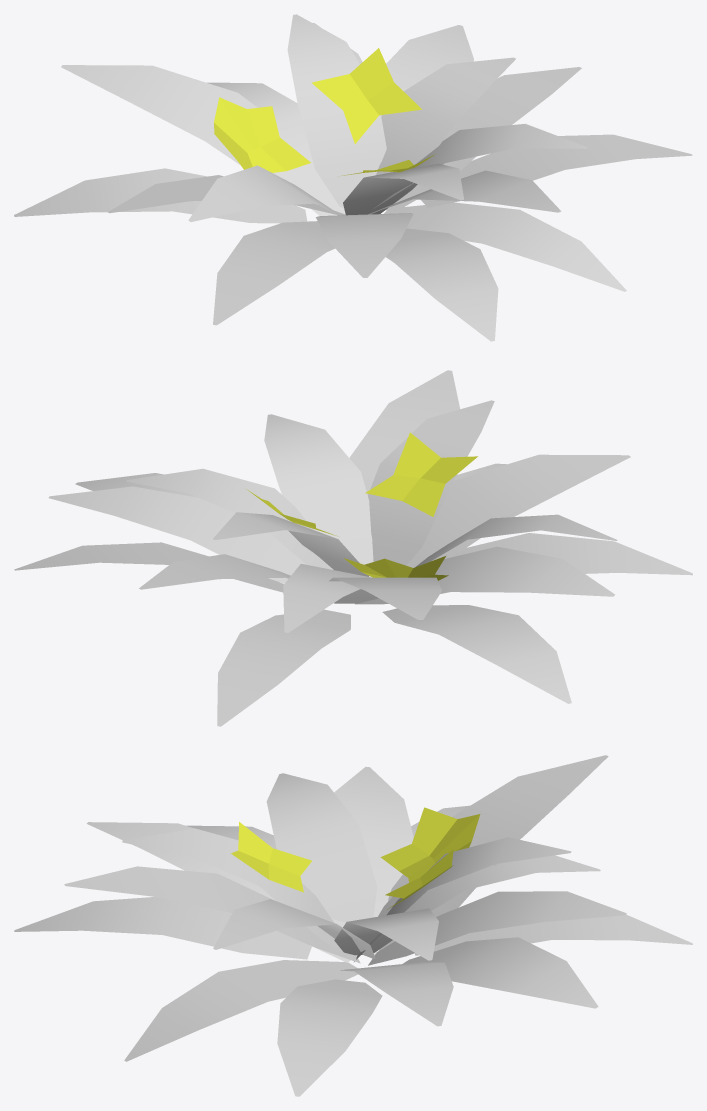
The model's file is Plant2.fbx.
The picture shows the model from 3 angles, top to bottom: view 1: azimuth 30°, elevation 25°; view 2: azimuth 150°, elevation 25°; view 3: azimuth 270°, elevation 25°; orthographic projection. The views are drawn at different scales.
Parts seen in each view (by area): view 1: Plane.095, Plane.091, Plane.085, Plane.094, Plane.088, Plane.083, Plane.082, Plane.079, Plane.090, Plane.100, Plane.101, Plane.097 (+7 smaller); view 2: Plane.093, Plane.086, Plane.090, Plane.081, Plane.082, Plane.098, Plane.087, Plane.094, Plane.092, Plane.083, Plane.099, Plane.080 (+7 smaller); view 3: Plane.097, Plane.091, Plane.079, Plane.085, Plane.080, Plane.088, Plane.089, Plane.092, Plane.087, Plane.098, Plane.081, Plane.090 (+9 smaller).
Part boxes in pixels (bbox=[...]): Plane.095: bbox=[287, 14, 386, 208]; Plane.091: bbox=[384, 202, 626, 291]; Plane.085: bbox=[386, 228, 498, 341]; Plane.094: bbox=[376, 57, 515, 175]; Plane.088: bbox=[61, 65, 275, 174]; Plane.083: bbox=[213, 221, 334, 325]; Plane.082: bbox=[14, 168, 307, 223]; Plane.079: bbox=[421, 134, 692, 207]; Plane.090: bbox=[386, 67, 581, 211]; Plane.100: bbox=[311, 48, 422, 143]; Plane.101: bbox=[214, 97, 310, 172]; Plane.097: bbox=[188, 165, 340, 221]; Plane.093: bbox=[264, 414, 373, 577]; Plane.086: bbox=[406, 454, 630, 567]; Plane.090: bbox=[48, 486, 306, 583]; Plane.081: bbox=[217, 609, 350, 726]; Plane.082: bbox=[382, 605, 571, 703]; Plane.098: bbox=[368, 400, 494, 565]; Plane.087: bbox=[355, 546, 614, 604]; Plane.094: bbox=[126, 468, 333, 569]; Plane.092: bbox=[349, 370, 459, 495]; Plane.083: bbox=[453, 533, 692, 575]; Plane.099: bbox=[365, 432, 477, 516]; Plane.080: bbox=[14, 542, 283, 592]; Plane.097: bbox=[266, 773, 377, 922]; Plane.091: bbox=[124, 960, 358, 1061]; Plane.079: bbox=[277, 979, 382, 1096]; Plane.085: bbox=[14, 897, 311, 959]; Plane.080: bbox=[403, 937, 598, 1008]; Plane.088: bbox=[379, 755, 608, 950]; Plane.089: bbox=[368, 891, 626, 965]; Plane.092: bbox=[64, 866, 360, 963]; Plane.087: bbox=[332, 766, 413, 955]; Plane.098: bbox=[122, 828, 338, 946]; Plane.081: bbox=[415, 914, 692, 955]; Plane.090: bbox=[340, 962, 453, 1026].
Bounding box in the file's own units: 311 × 76.31 × 307.
